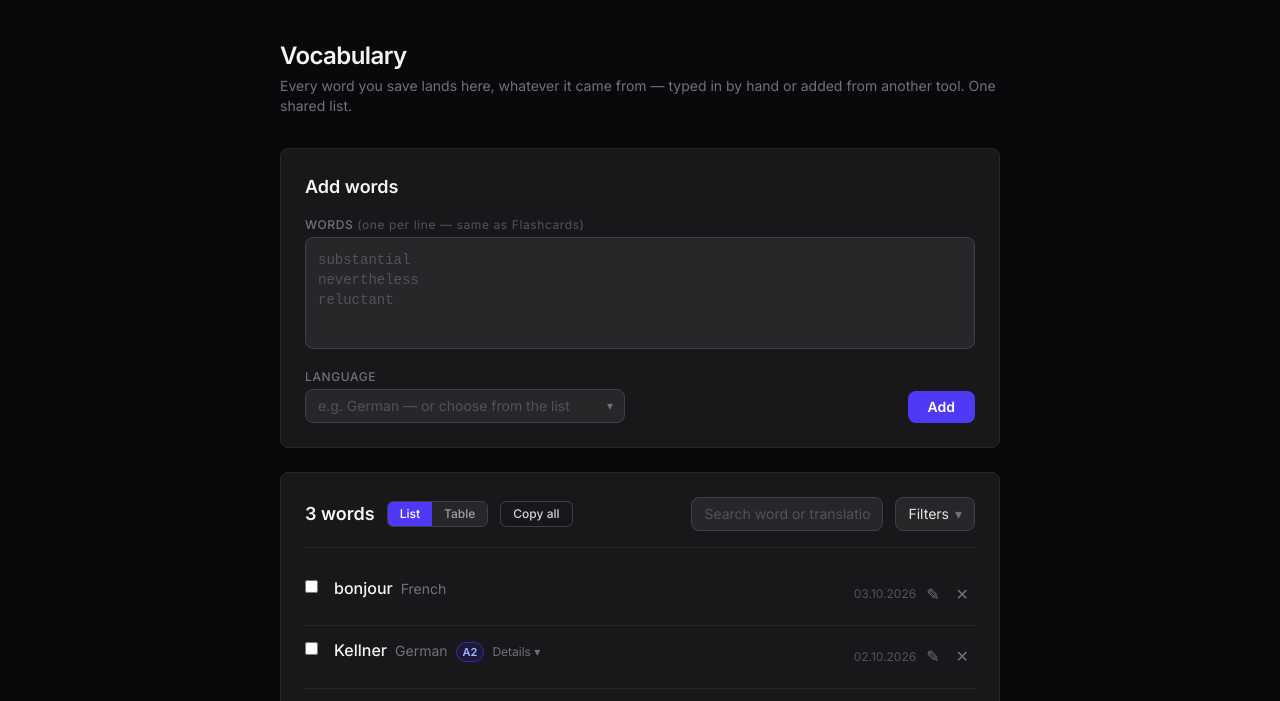
Test: deleting several words at once › reports how many really went
The width and height of the screenshot is (1280, 701).
Click the checkbox titled "Select" next to "bonjour" at (312, 586), box [305, 580, 318, 593]
(page scrolled)
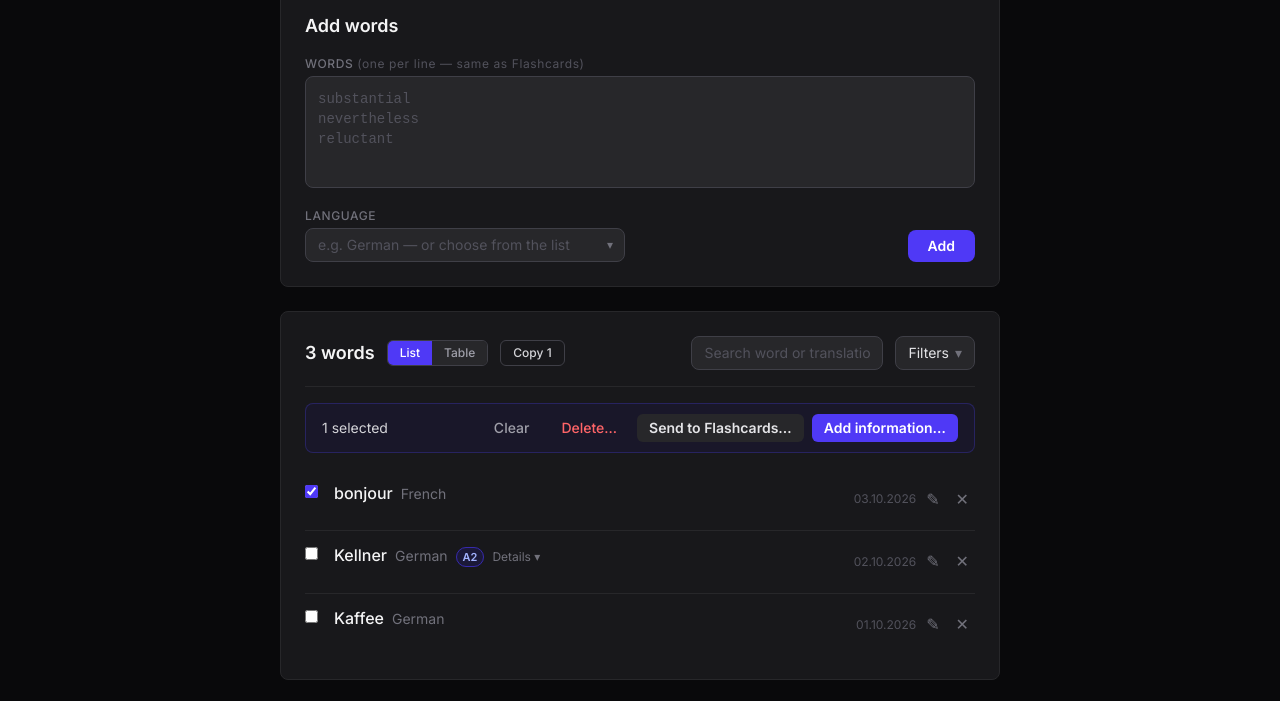
Click the checkbox titled "Select" next to "Kellner" at (312, 554), box [305, 547, 318, 560]
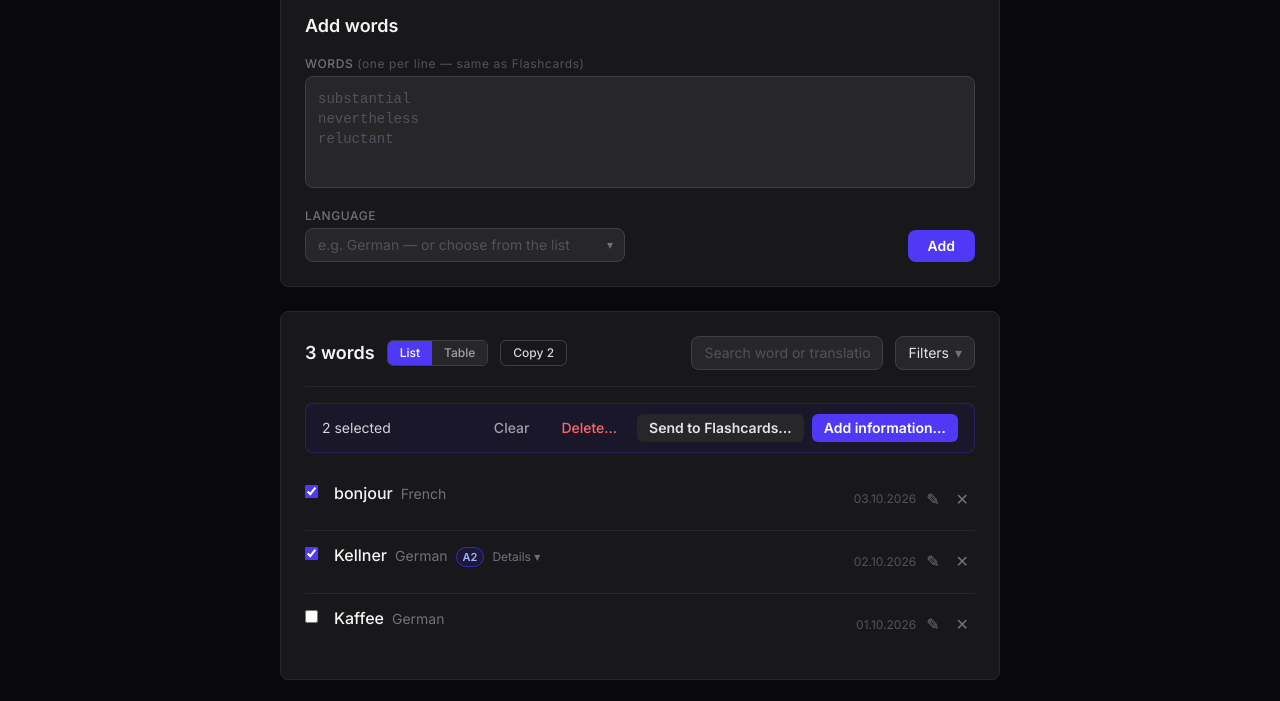
Click the button "Delete…" at (589, 428), box [549, 414, 629, 442]
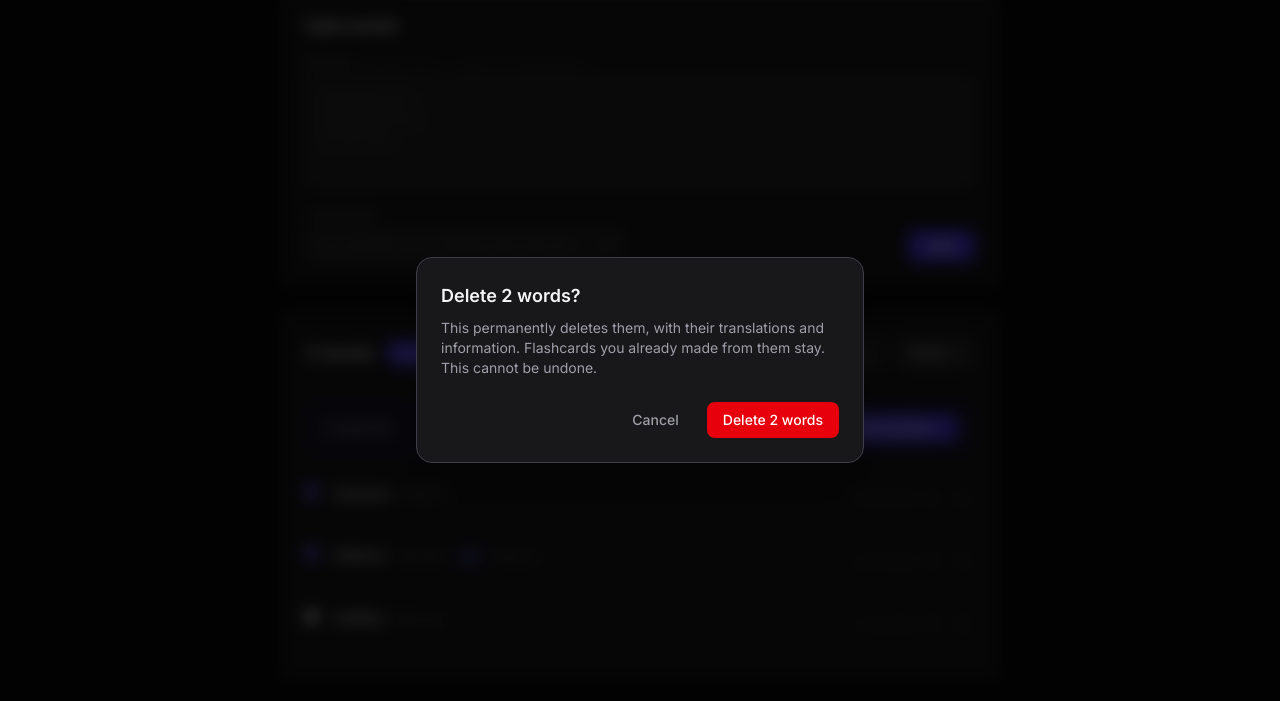
Click the button "Delete 2 words" at (773, 420), box [707, 402, 839, 438]
(page scrolled)
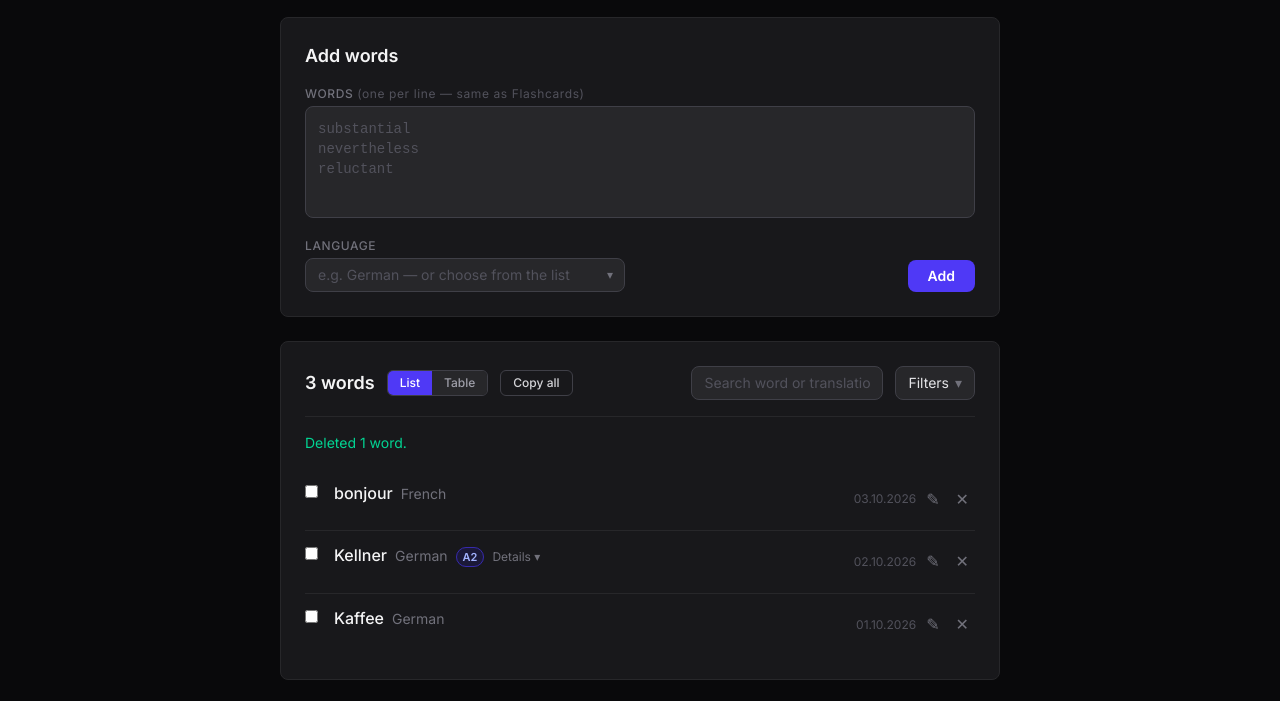
Expected: the text "Deleted 1 word." is shown, [305, 434, 407, 451]
